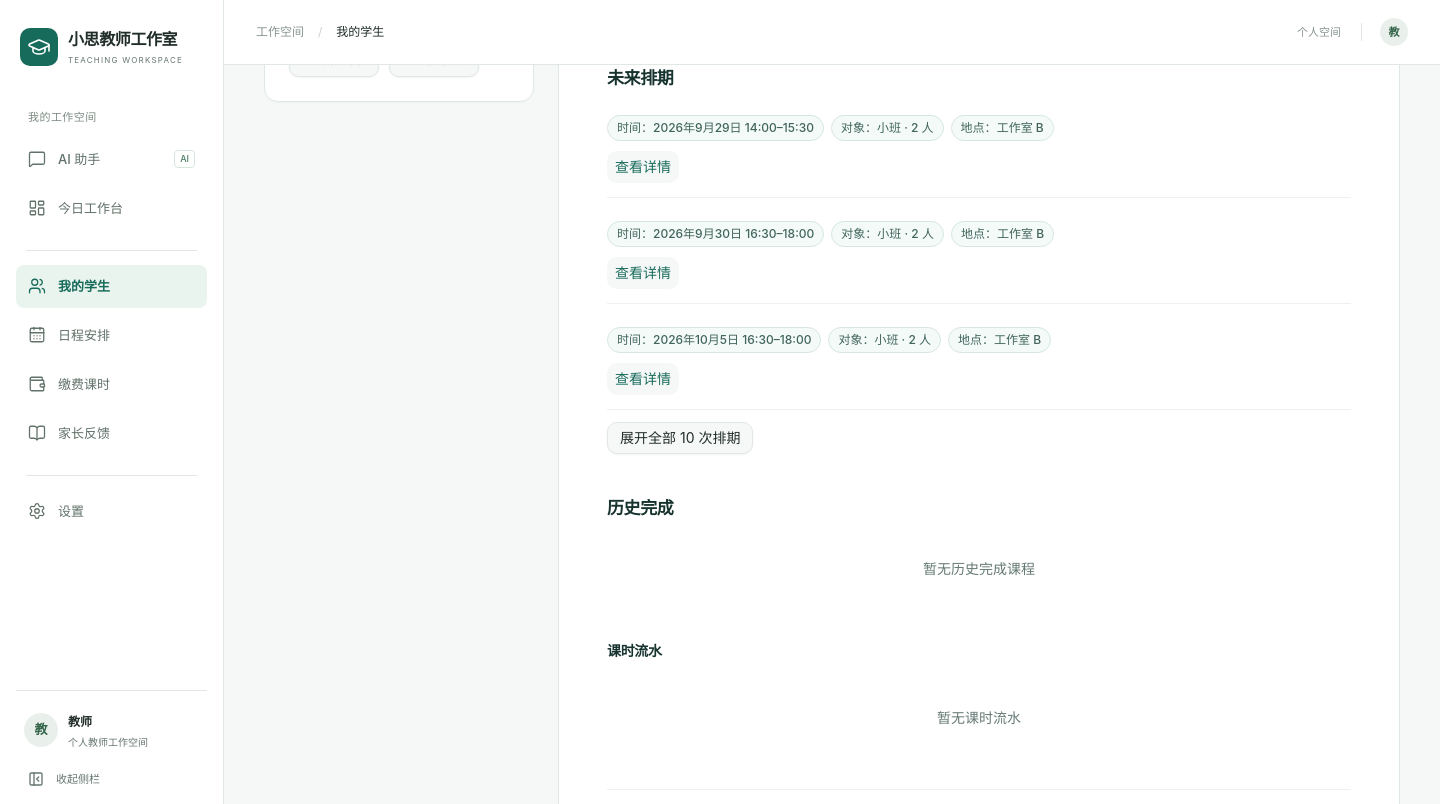
Test: 学生页面交互修复 › 未来排期默认收起并可展开、收起
(page scrolled)
Check: the number of buttons "查看详情" is 3, box top-left (607, 151), bottom-right (679, 183); top-left (607, 257), bottom-right (679, 289); top-left (607, 363), bottom-right (679, 395)
What coordinates should you click on to do the following:
click the button "展开全部 10 次排期"
I would click on:
 (680, 438)
Its box is top-left (607, 422), bottom-right (753, 454).
(page scrolled)
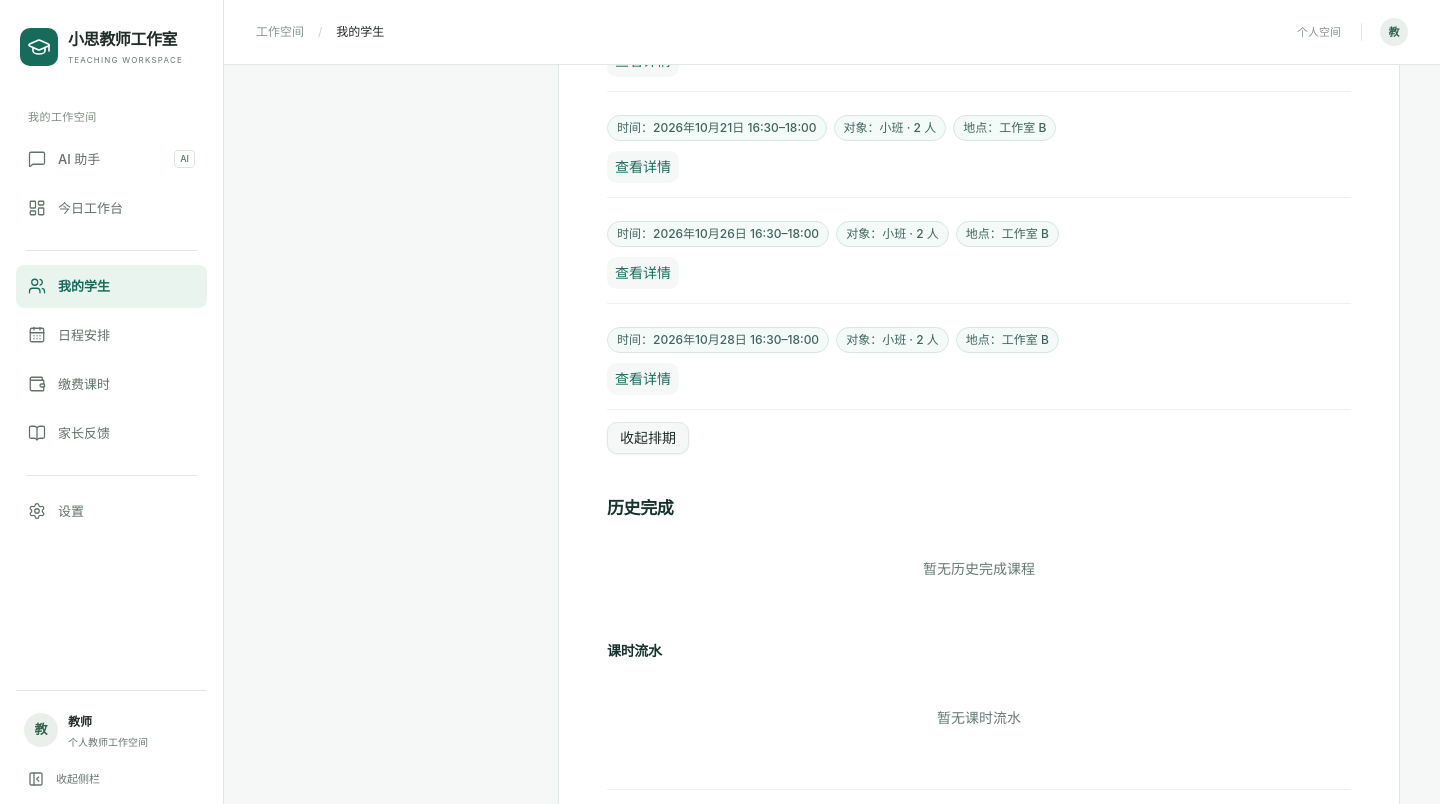
What coordinates should you click on to do the following:
click the button "收起排期"
I would click on:
 (648, 438)
Its box is top-left (607, 422), bottom-right (689, 454).
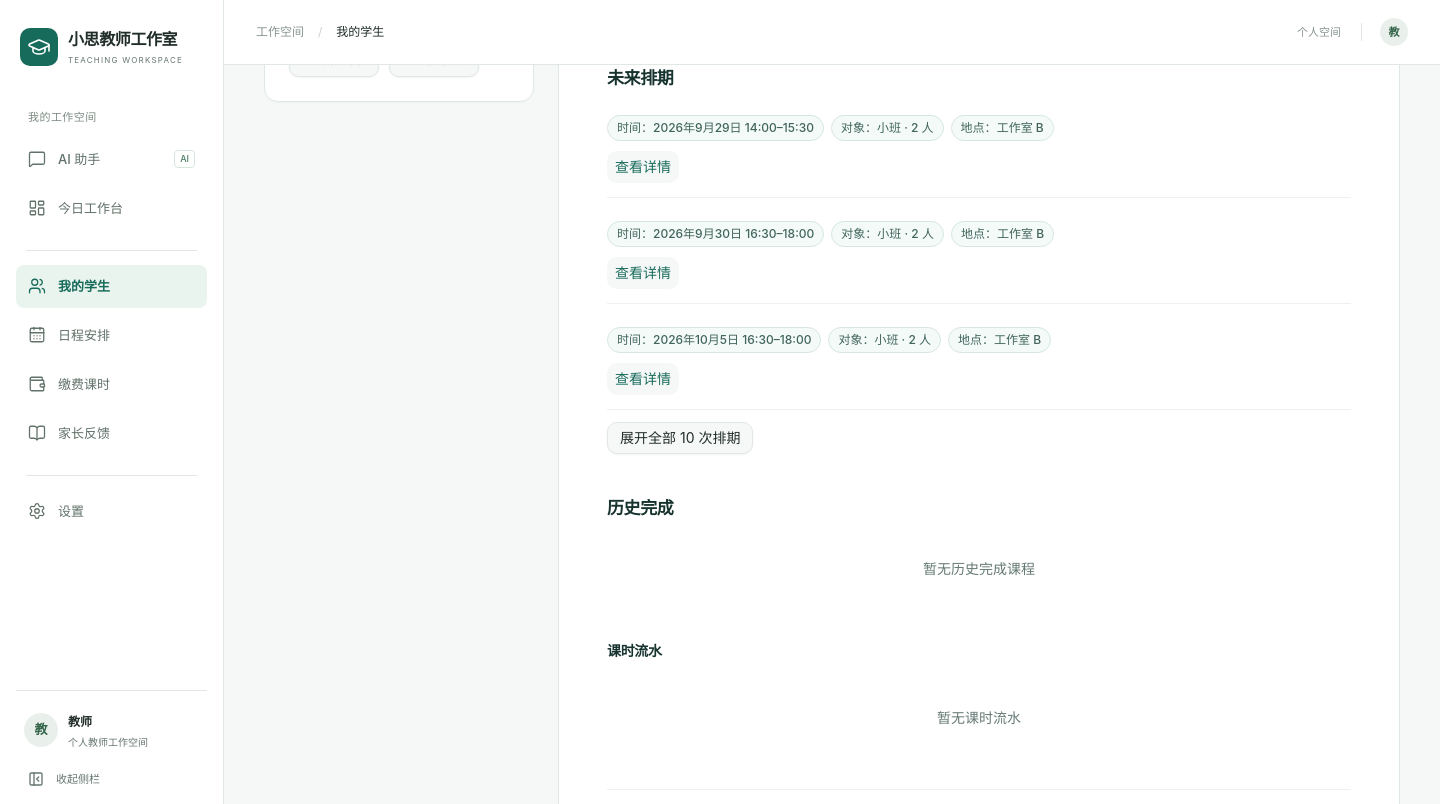
Check: the number of buttons "查看详情" is 3, box top-left (607, 151), bottom-right (679, 183); top-left (607, 257), bottom-right (679, 289); top-left (607, 363), bottom-right (679, 395)
